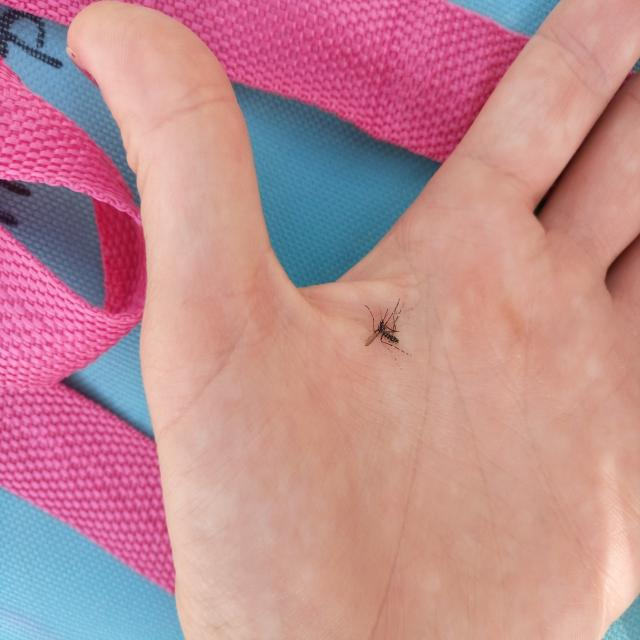albopictus: (358, 298, 412, 360)
